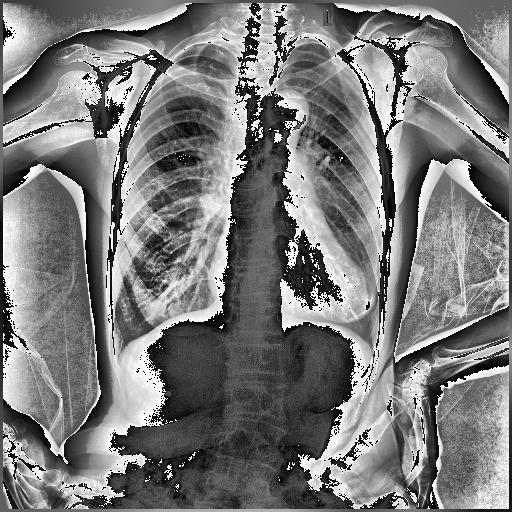0- Aortic enlargement: (268, 90, 308, 148), (262, 91, 310, 133), (267, 88, 309, 130)
3- Cardiomegaly: (204, 237, 375, 322), (206, 263, 372, 330), (207, 254, 369, 318)
8- Nodule-Mass: (167, 303, 183, 318)
9- Other lesion: (167, 303, 183, 318)
